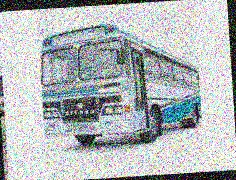bus: (39, 19, 204, 151)
